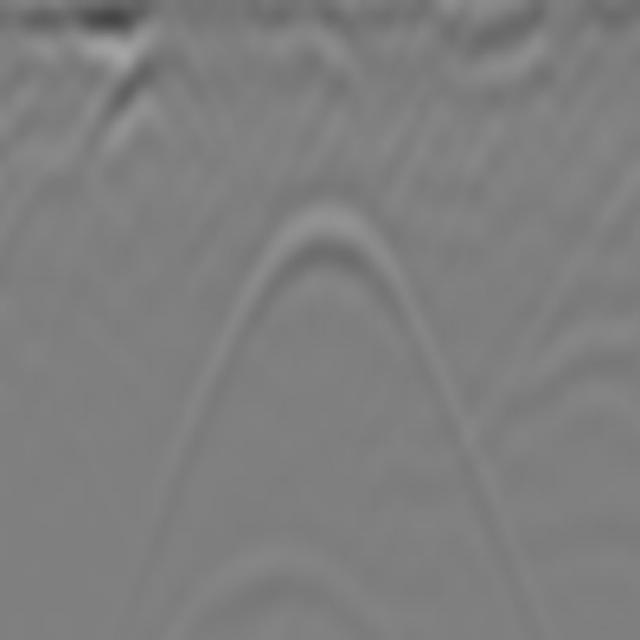hyperbola: (201, 190, 448, 420)
